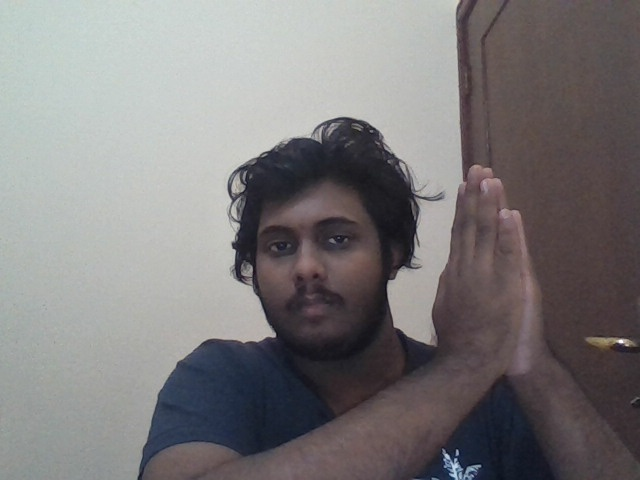namaste: (433, 165, 548, 379)
